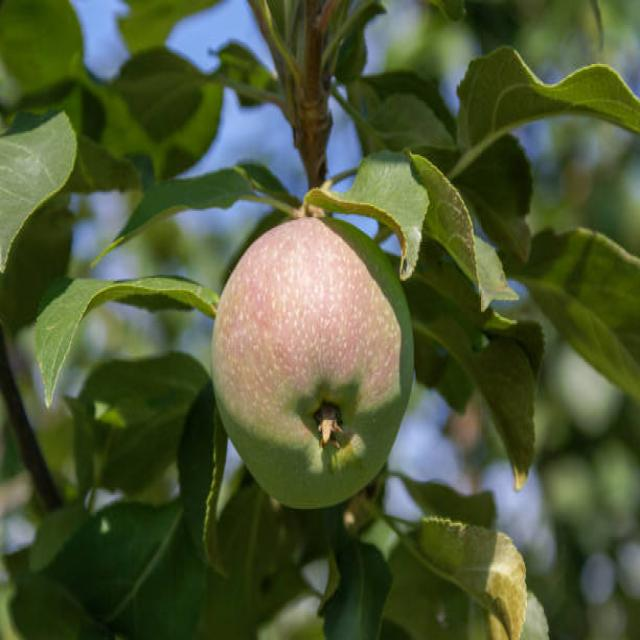Unripe: (212, 214, 416, 506)
